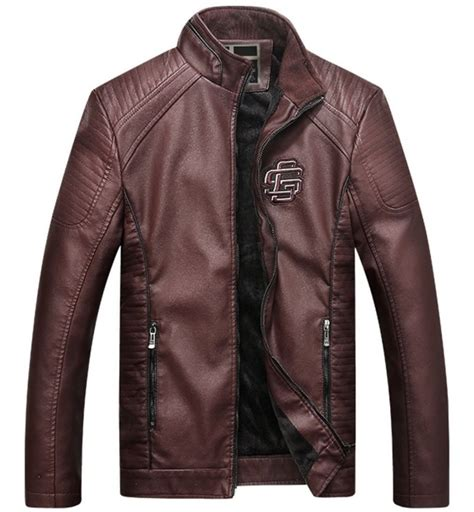cuero: (24, 7, 451, 508)
